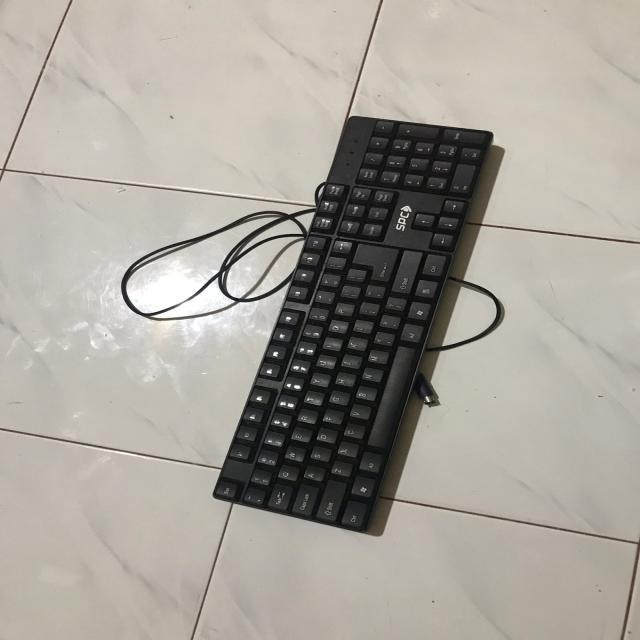-mouse-: (212, 113, 499, 533)
